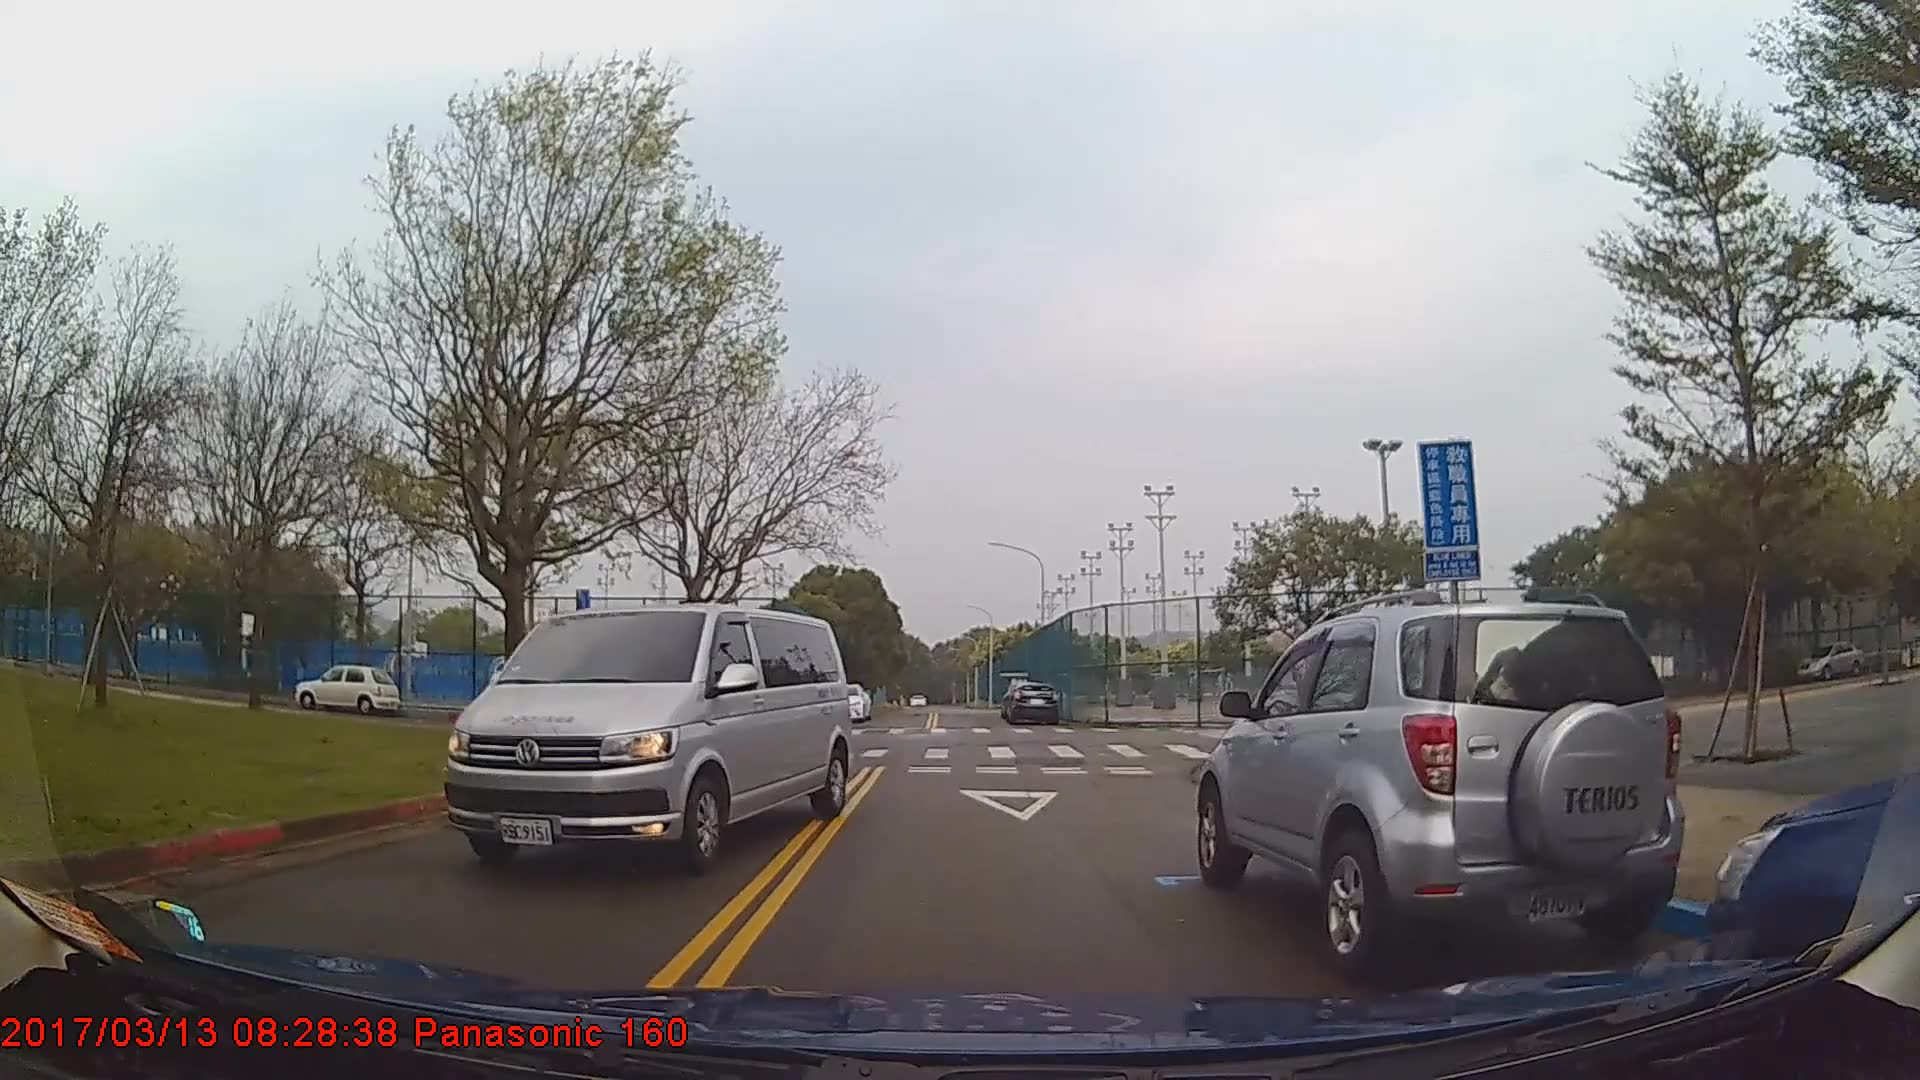vehicle: (1193, 597, 1684, 969), (443, 603, 851, 872), (291, 663, 398, 713), (1795, 640, 1865, 680), (1004, 679, 1062, 724)
